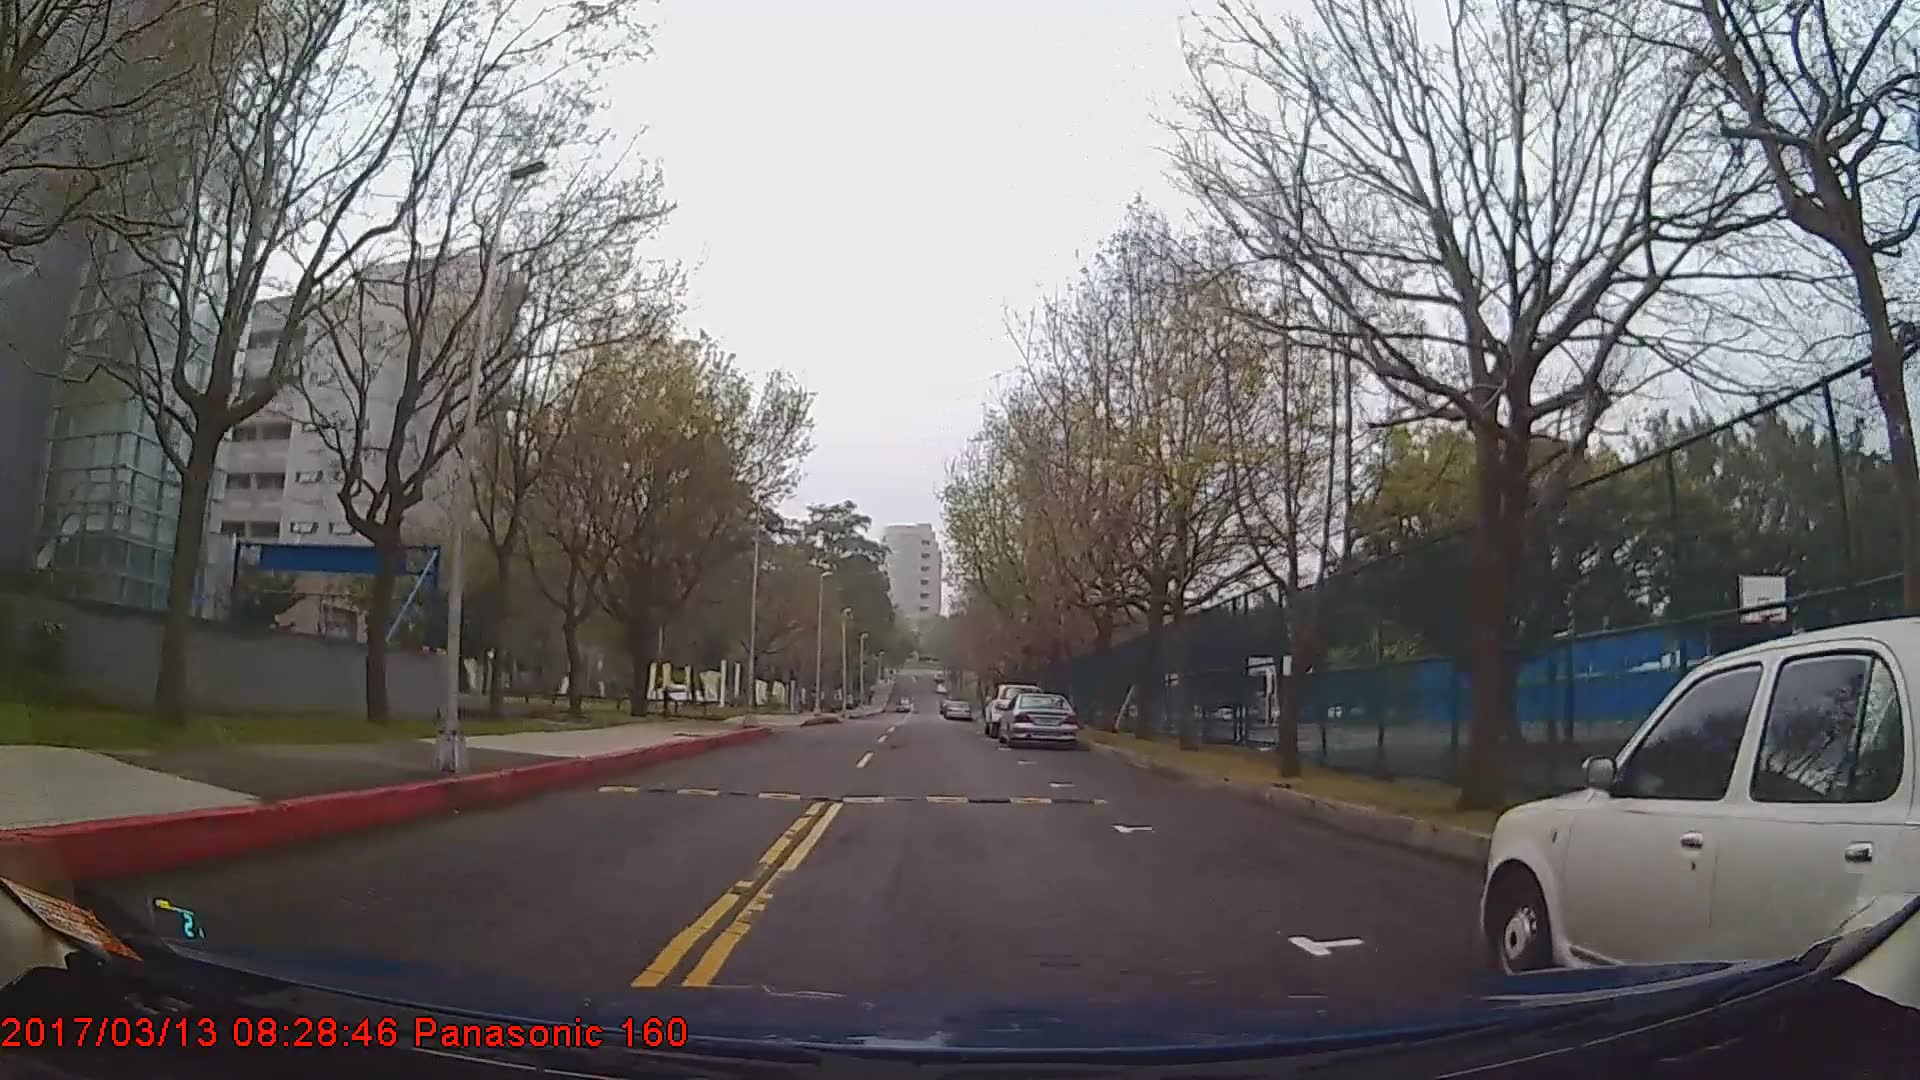vehicle: (1478, 615, 1920, 984), (997, 688, 1079, 746), (940, 696, 973, 723)
